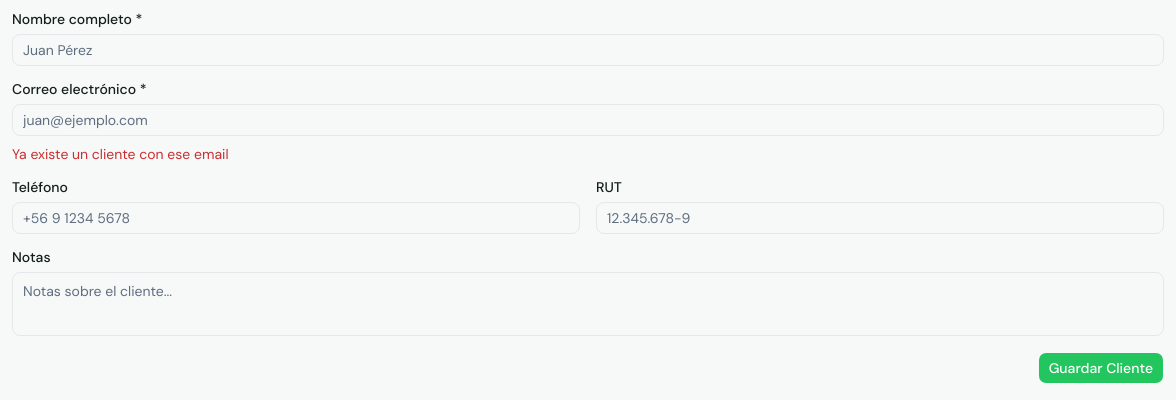
ClientForm serverError › serverError desaparece cuando se modifica el email
The width and height of the screenshot is (1176, 400).
In the field labelled "Correo electrónico *": (588, 120) [12,104,1164,136], type "nuevo@email.com"
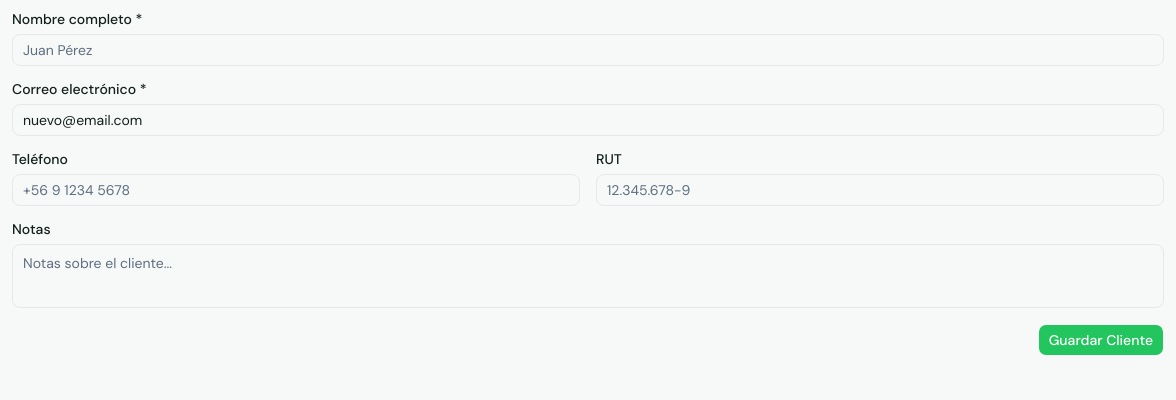
Expected: the text "Ya existe un cliente con ese email" is gone
